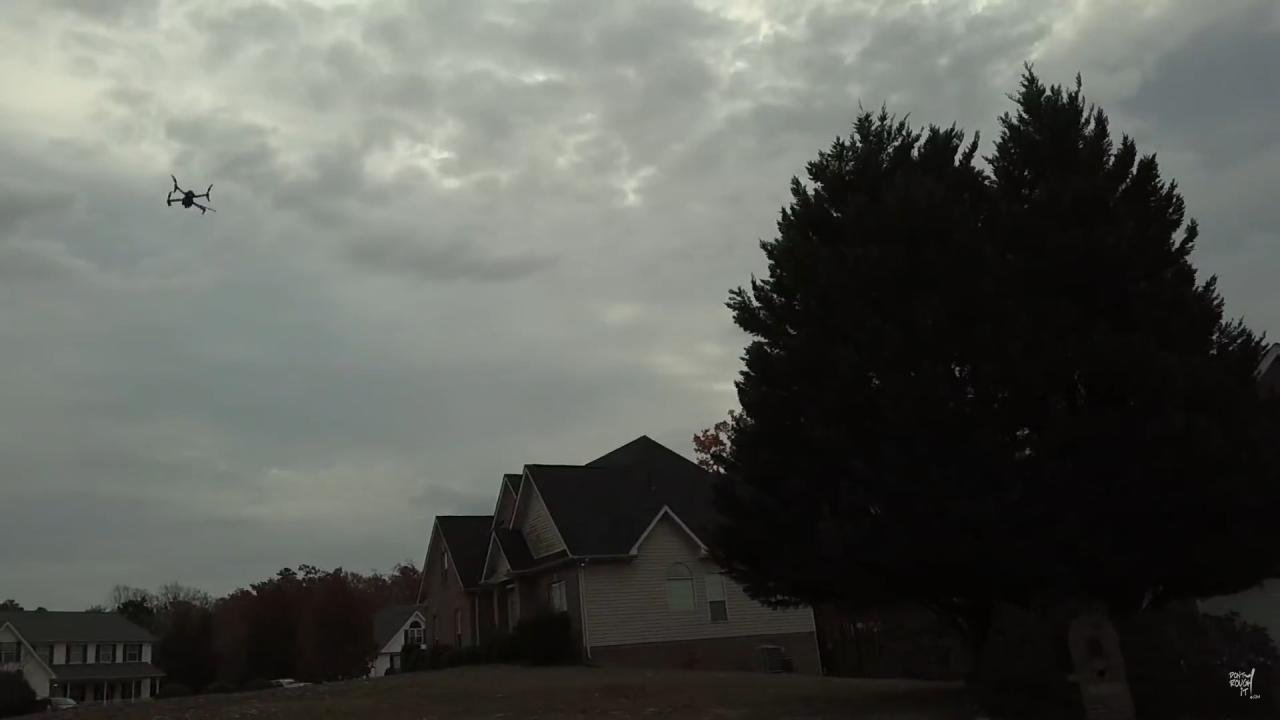Drone: (153, 166, 228, 228)
